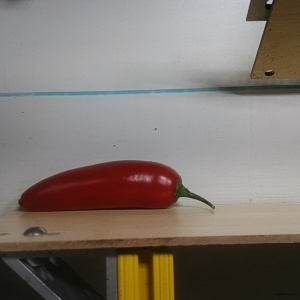Cut Point: (162, 164, 188, 211)
